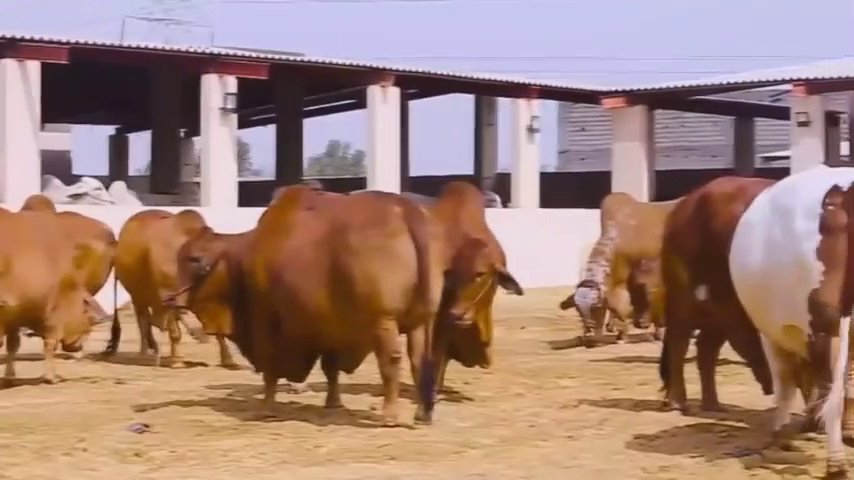bo: (168, 185, 437, 427), (715, 153, 854, 478), (380, 167, 520, 383), (655, 162, 767, 413), (106, 198, 246, 372), (562, 179, 677, 344), (3, 206, 104, 392), (619, 247, 674, 344), (78, 204, 117, 261)
